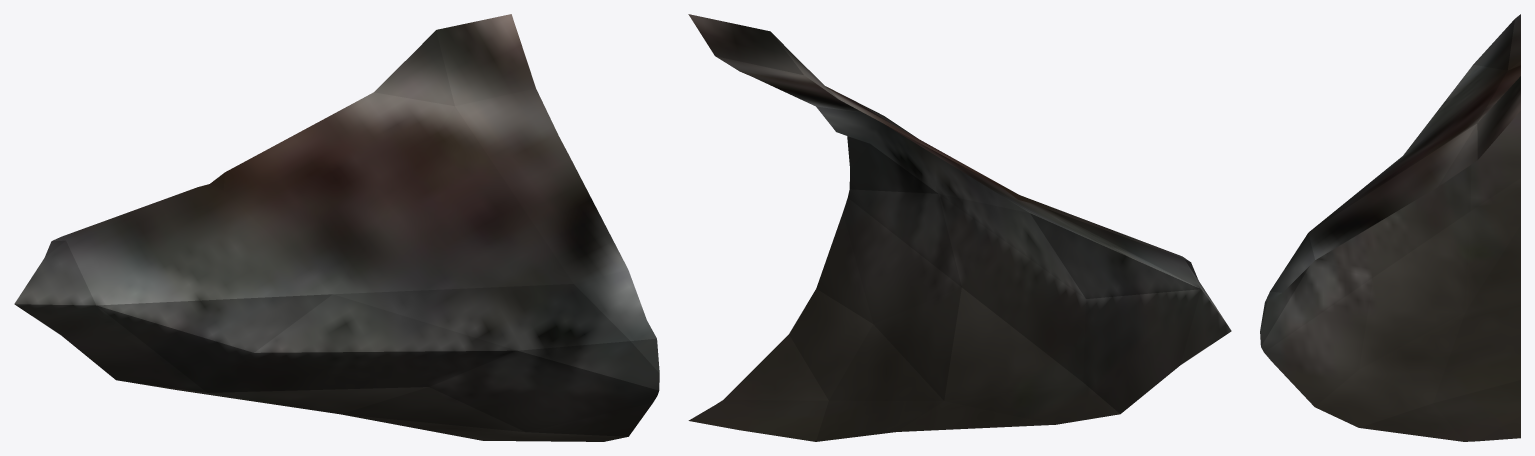
3 renders of one model, left to right at view 1: azimuth 30°, elevation 25°; view 2: azimuth 150°, elevation 25°; view 3: azimuth 270°, elevation 25°, orthographic. The views are drawn at different scales.
Size of the model in its own units: 0.1843 by 0.1342 by 0.0951.
Materials: 1 (1 with a texture image).
